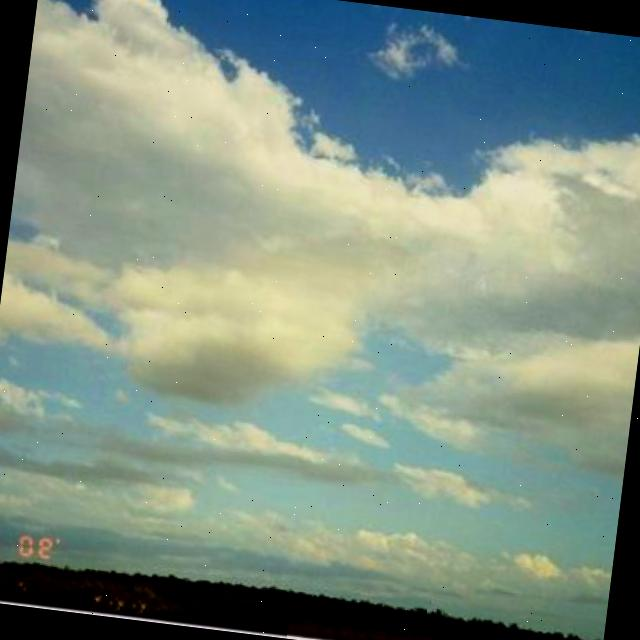St: (1, 1, 588, 478)
